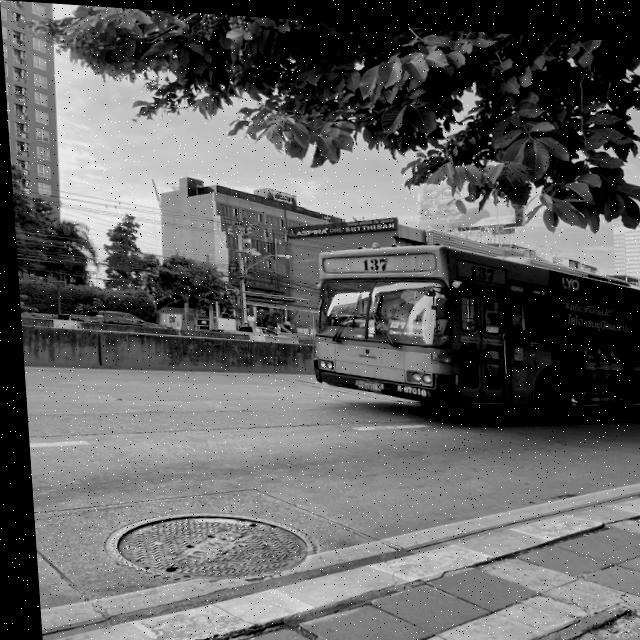BMTA-bus: (287, 226, 640, 421)
Bus Line Number: (357, 249, 387, 268)
Bus Side Number: (389, 379, 424, 393)
Destination Sign: (382, 314, 428, 338)
